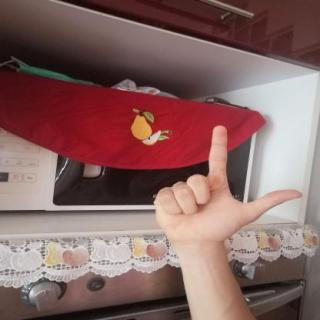LAAM: (144, 120, 310, 253)
